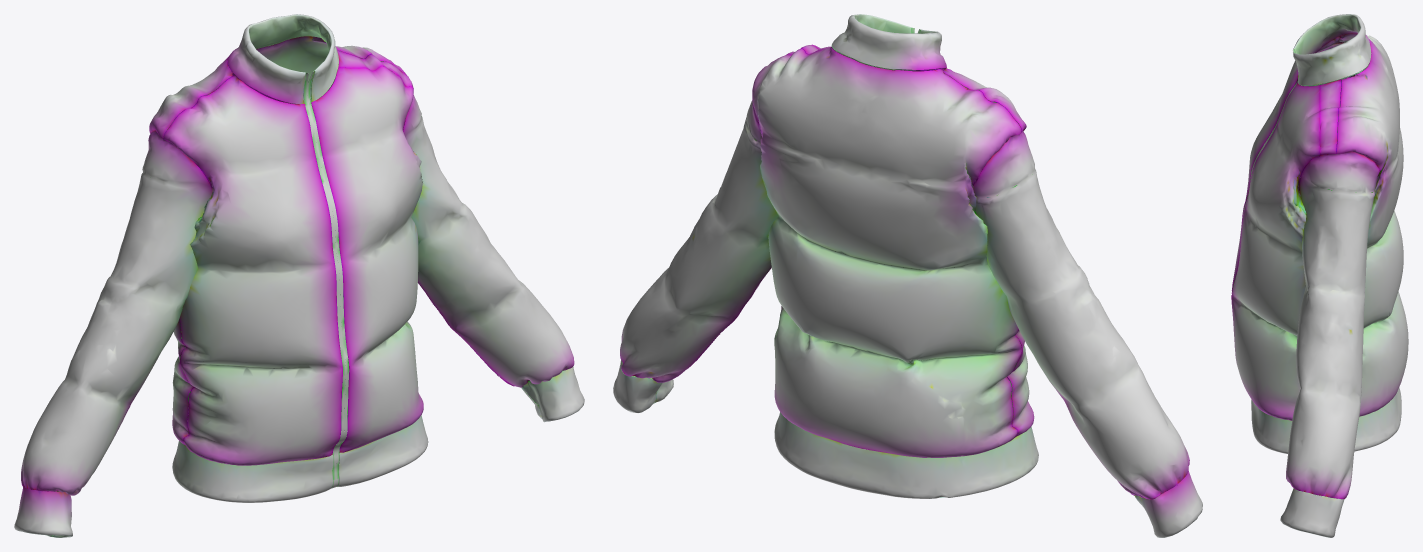
The model's file is puffer.glb.
The picture shows the model from 3 angles, left to right: view 1: azimuth 30°, elevation 25°; view 2: azimuth 150°, elevation 25°; view 3: azimuth 270°, elevation 25°; orthographic projection. The views are drawn at different scales.
Parts seen in each view (by area): view 1: front, sleeve_r, sleeve_l, hem, back, collar, cuffs, zipper; view 2: back, sleeve_r, sleeve_l, hem, collar, cuffs, front; view 3: sleeve_l, front, back, collar, hem, cuffs, zipper.
Part boxes in pixels (left/top/right/bottom): front: left=163, top=51, right=423, bottom=465; sleeve_r: left=21, top=130, right=212, bottom=495; sleeve_l: left=403, top=95, right=574, bottom=387; hem: left=172, top=413, right=428, bottom=502; back: left=149, top=36, right=413, bottom=445; collar: left=227, top=14, right=338, bottom=104; cuffs: left=14, top=366, right=584, bottom=537; zipper: left=304, top=70, right=349, bottom=488; back: left=752, top=44, right=1021, bottom=457; sleeve_r: left=973, top=130, right=1189, bottom=499; sleeve_l: left=620, top=100, right=778, bottom=382; hem: left=774, top=412, right=1038, bottom=498; collar: left=831, top=14, right=946, bottom=71; cuffs: left=613, top=360, right=1202, bottom=537; front: left=802, top=45, right=1034, bottom=436; sleeve_l: left=1286, top=151, right=1379, bottom=499; front: left=1231, top=36, right=1341, bottom=420; back: left=1320, top=33, right=1408, bottom=416; collar: left=1293, top=14, right=1371, bottom=86; hem: left=1251, top=387, right=1401, bottom=453; cuffs: left=1280, top=488, right=1344, bottom=537; zipper: left=1233, top=49, right=1298, bottom=285.
Bounding box in the file's own units: 0.8713 × 0.6599 × 0.2655.
